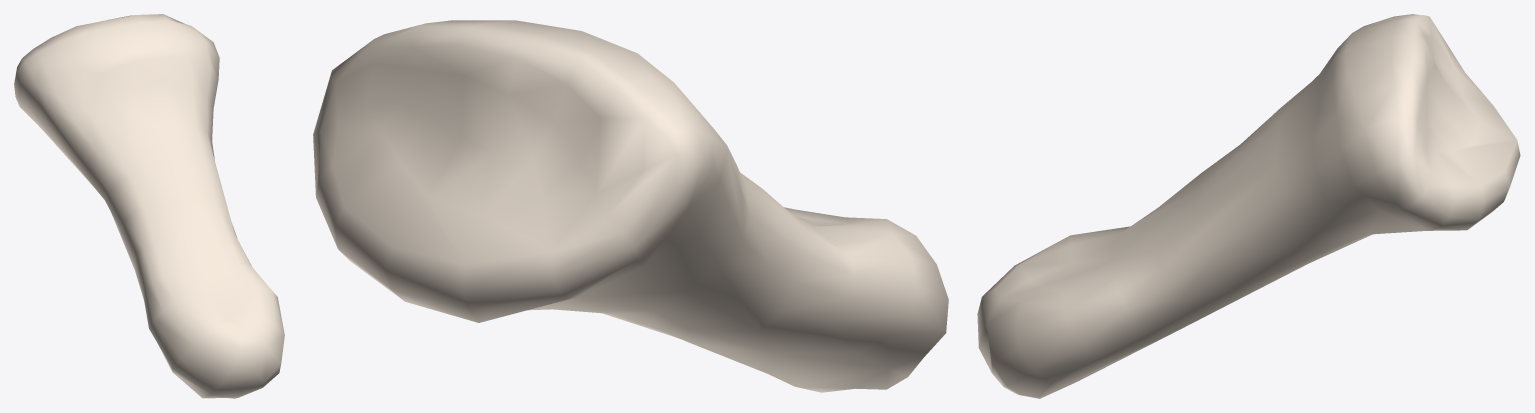
File: right_digit_3_distal.glb
3 views of the same model, side by side, from view 1: azimuth 30°, elevation 25°; view 2: azimuth 150°, elevation 25°; view 3: azimuth 270°, elevation 25° (orthographic). The views are drawn at different scales.
Visible parts, largest first — view 1: Distal phalanx of 3d finger.r; view 2: Distal phalanx of 3d finger.r; view 3: Distal phalanx of 3d finger.r.
Part boxes in pixels (x1,y1,x2,y2): Distal phalanx of 3d finger.r: (14,14,284,398); Distal phalanx of 3d finger.r: (313,20,948,392); Distal phalanx of 3d finger.r: (977,14,1520,398).
Size of the model in its own units: 0.00965 by 0.013 by 0.0176.
